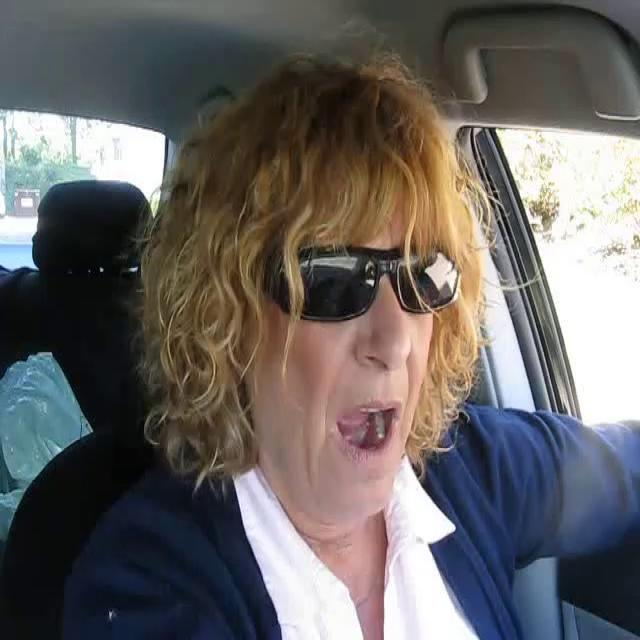open: (333, 396, 406, 471)
